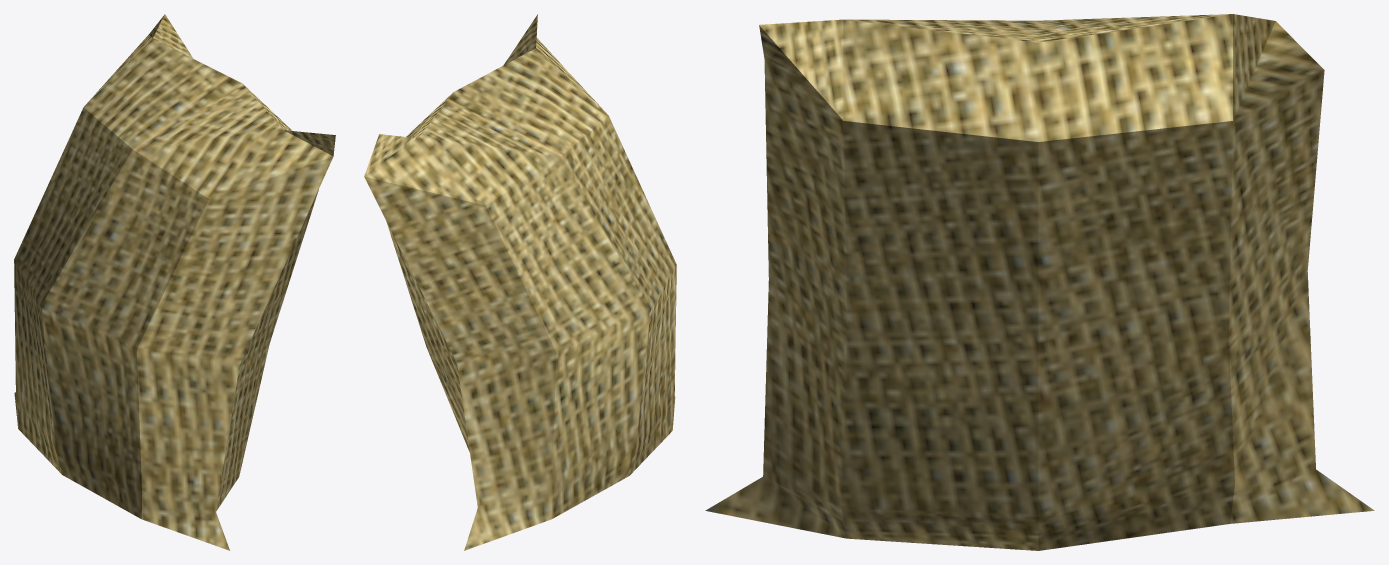
Rendered from sack_03.fbx.
3 views of the same model, side by side, from view 1: azimuth 30°, elevation 25°; view 2: azimuth 150°, elevation 25°; view 3: azimuth 270°, elevation 25° (orthographic). The views are drawn at different scales.
Parts seen in each view (by area): view 1: sack_2; view 2: sack_2; view 3: sack_2.
Boxes of the visible parts, box(x1,y1,x2,y2) form: sack_2: box(14, 14, 335, 550); sack_2: box(364, 14, 676, 550); sack_2: box(705, 14, 1374, 550).
Bounding box in the file's own units: 54.86 × 84.32 × 86.56.
